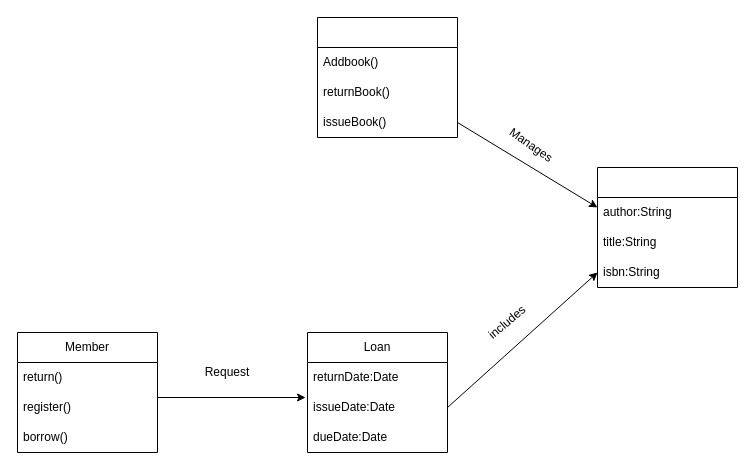
The diagram is 755 pixels wide and 470 high, and some of its shapes have lost their labels. The shapes that lost their labels are listed below. From the top down, each one's box as (x1, y1, x2, y2) in pixels, then its label:
(316, 16, 458, 138): Library
(596, 166, 738, 288): Book
